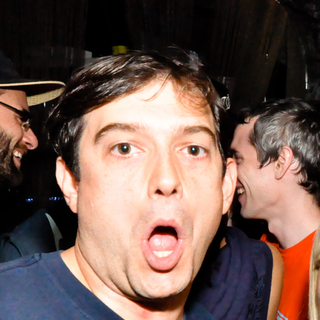eye: (102, 138, 145, 162), (174, 140, 214, 163)
